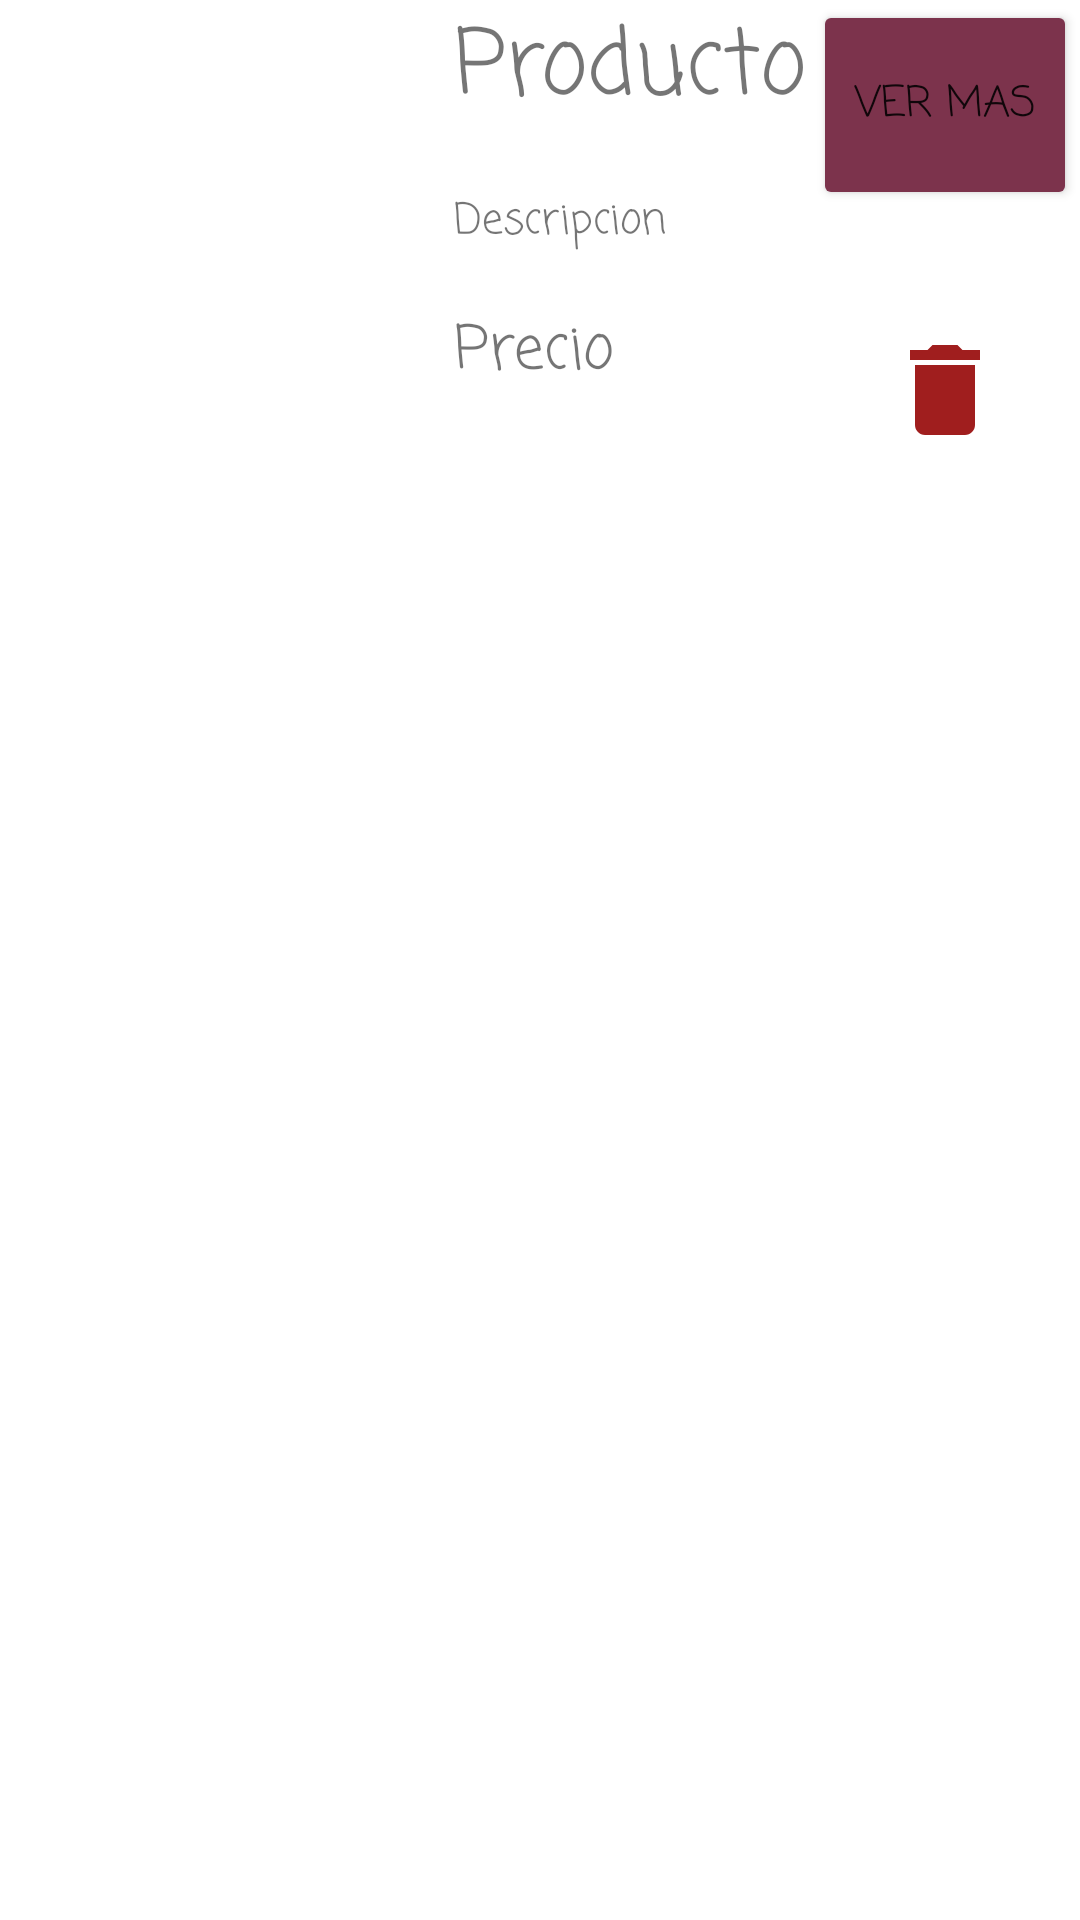

Point at icon controls on the screen. Image size 1080 x 1920, points as [x,y].
delete: [945,390]
